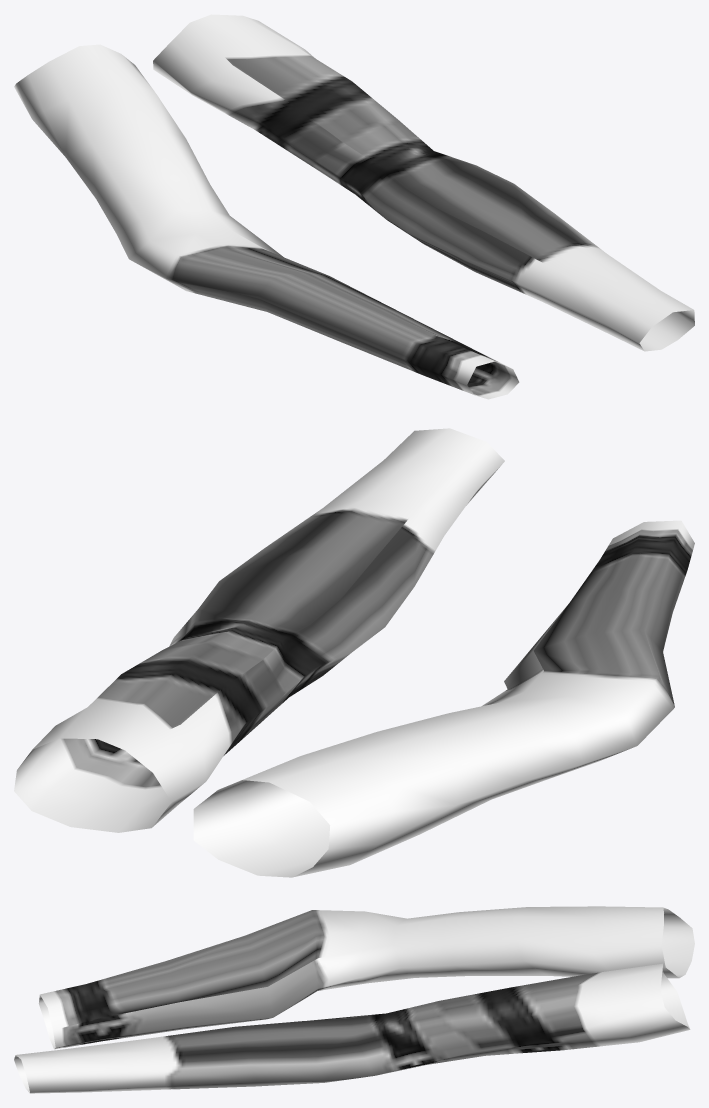
The model's file is Armbands_Ground.fbx.
3 renders of one model, top to bottom at view 1: azimuth 30°, elevation 25°; view 2: azimuth 150°, elevation 25°; view 3: azimuth 270°, elevation 25°, orthographic. The views are drawn at different scales.
Parts seen in each view (by area): view 1: G_Gotharmbands; view 2: G_Gotharmbands; view 3: G_Gotharmbands.
Boxes of the visible parts, x1=… form: G_Gotharmbands: x1=14, y1=14, x2=694, y2=399; G_Gotharmbands: x1=14, y1=428, x2=694, y2=877; G_Gotharmbands: x1=14, y1=906, x2=694, y2=1093.
Size of the model in its own units: 0.1367 by 0.0405 by 0.2476.
